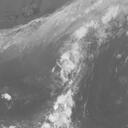cyclone: (50, 41, 87, 85)
